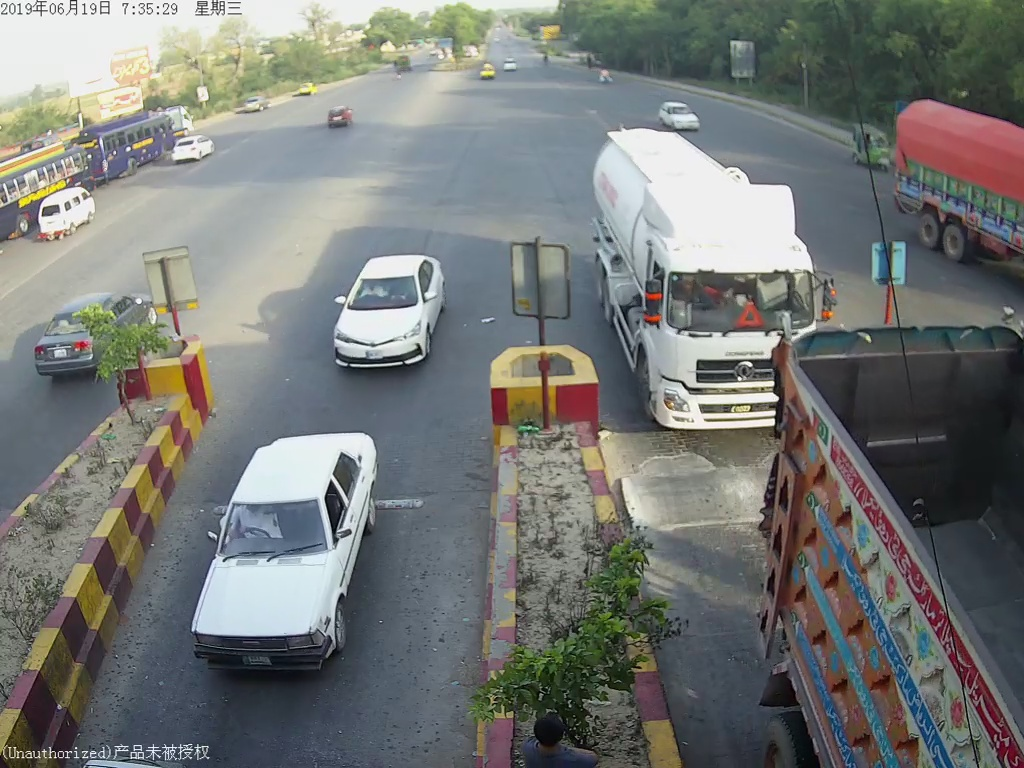Cat-1: (198, 432, 382, 673), (321, 252, 451, 373)
Cat-4: (597, 128, 835, 432)
